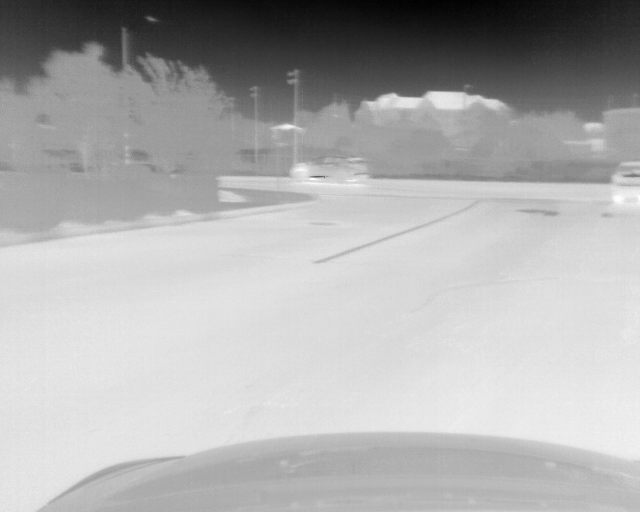car: (288, 157, 368, 186), (610, 161, 640, 216)
